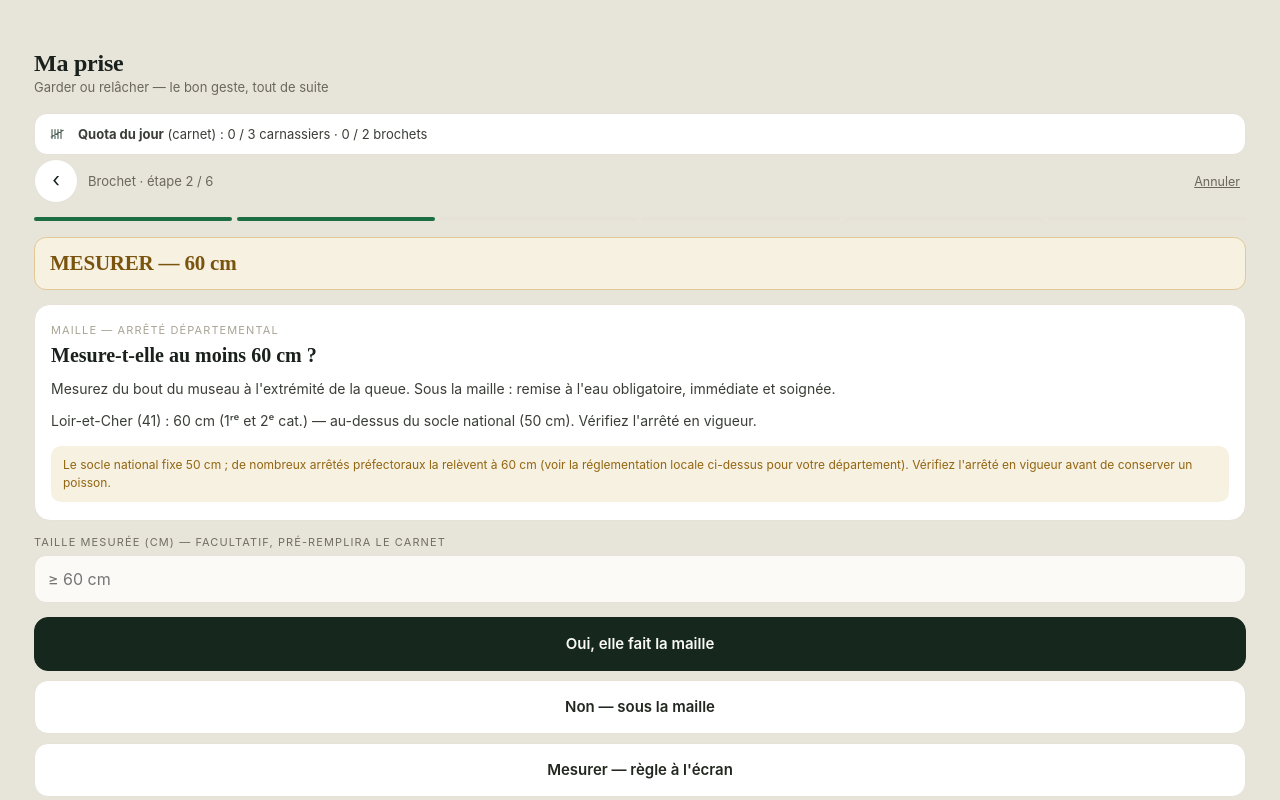
Prise — la taille saisie change le verdict à l'écran › 45 cm sous une maille de 60 : le bouton « elle fait la maille » disparaît
Expected: the text "Mesure-t-elle au moins 60 cm ?" is shown, x1=51 y1=344 x2=317 y2=366
Type "45" into the field with placeholder "≥ 60 cm" at (640, 579), box x1=34 y1=555 x2=1246 y2=603
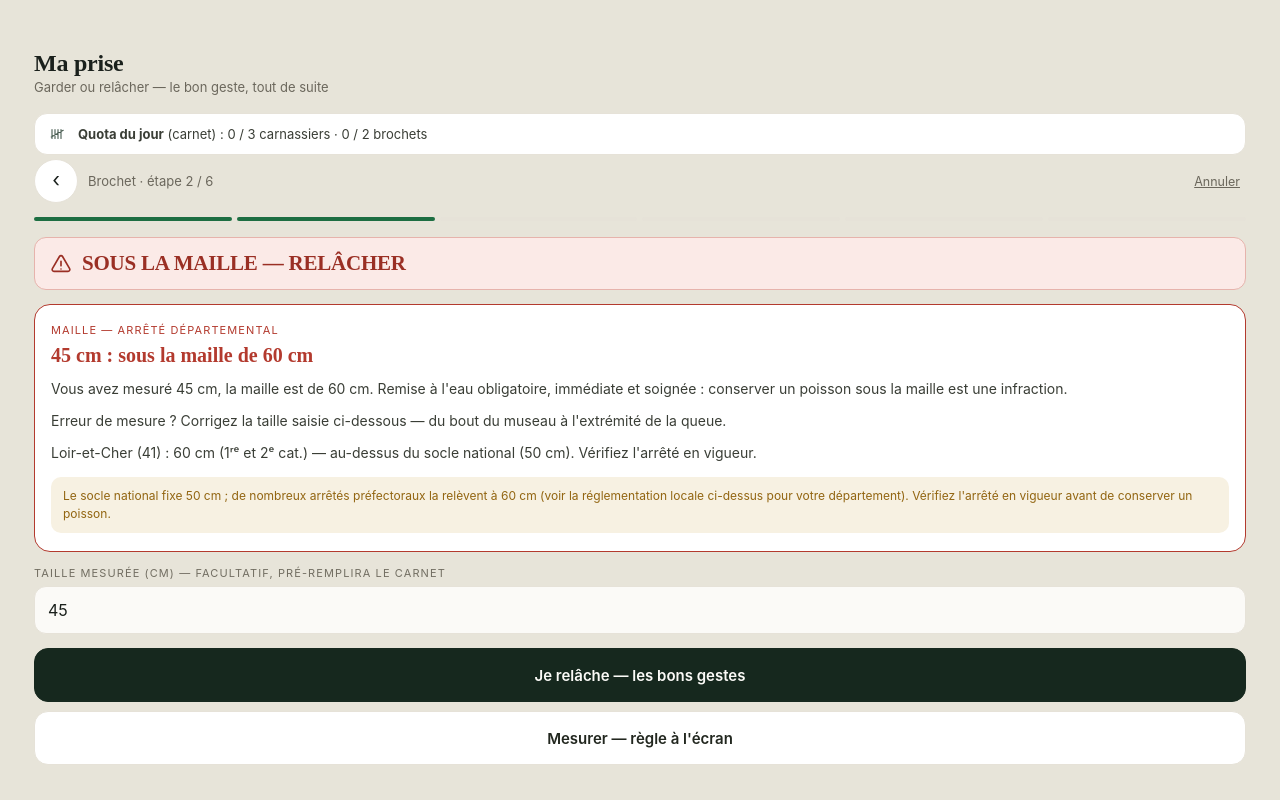
Expected: the button "Oui, elle fait la maille" is gone
Expected: the button "Je relâche — les bons gestes" is shown, x1=34 y1=648 x2=1246 y2=702
